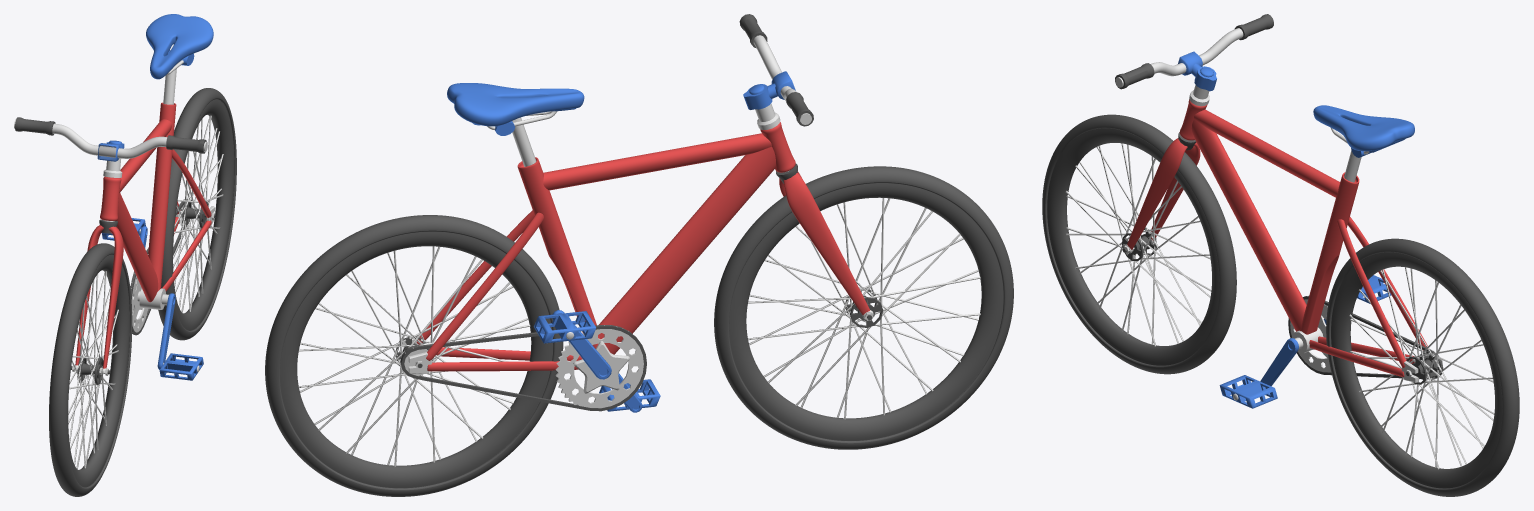
Rendered from bicycle.glb.
The picture shows the model from 3 angles, left to right: view 1: azimuth 30°, elevation 25°; view 2: azimuth 150°, elevation 25°; view 3: azimuth 270°, elevation 25°; orthographic projection. The views are drawn at different scales.
Visible parts, largest first — view 1: tire, body, tools; view 2: tire, body, tools; view 3: tire, body, tools.
Boxes of the visible parts, box(x1,y1,x2,y2) form: tire: box(49, 88, 236, 496); body: box(14, 14, 213, 380); tools: box(130, 199, 188, 335); tire: box(265, 166, 1013, 496); body: box(416, 14, 870, 412); tools: box(400, 324, 646, 411); tire: box(1042, 114, 1519, 496); body: box(1115, 14, 1427, 408); tools: box(1288, 295, 1443, 379).
Size of the model in its own units: 2.84 by 2.23 by 2.76.
